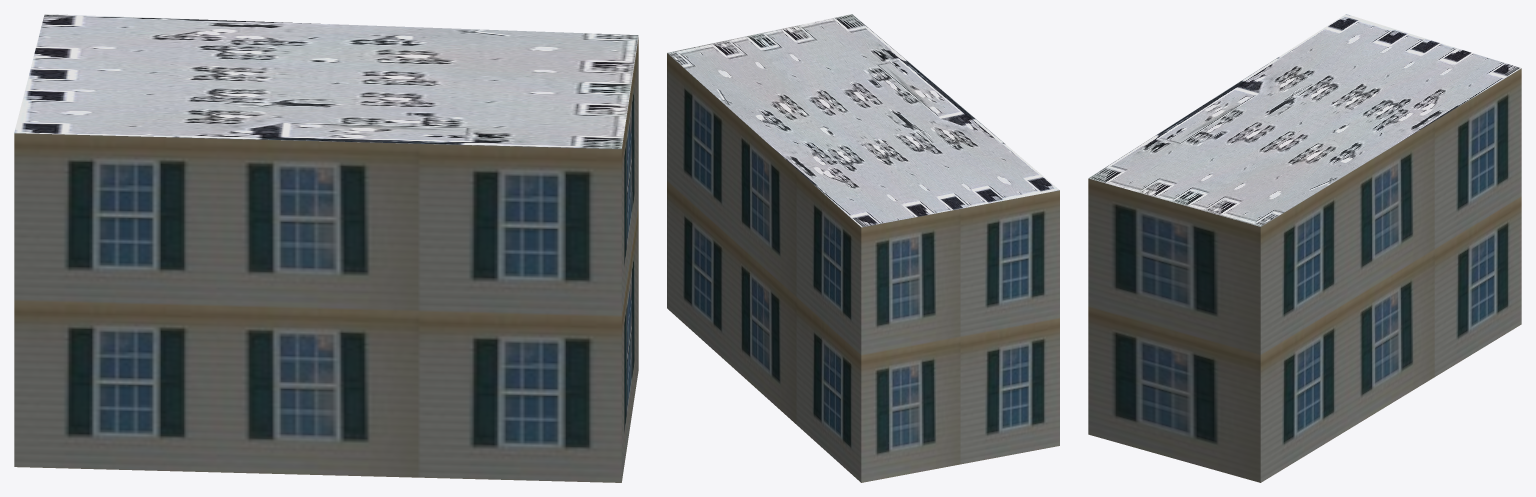
Rendered from ResTex__93.fbx.
The picture shows the model from 3 angles, left to right: view 1: azimuth 30°, elevation 25°; view 2: azimuth 150°, elevation 25°; view 3: azimuth 270°, elevation 25°; orthographic projection. The views are drawn at different scales.
Visible parts, largest first — view 1: CityEngineMaterial_7_m, CityEngineMaterial_2_m; view 2: CityEngineMaterial_7_m, CityEngineMaterial_2_m; view 3: CityEngineMaterial_7_m, CityEngineMaterial_2_m.
Part boxes in pixels (x1,y1,x2,y2): CityEngineMaterial_7_m: (14,37,638,482); CityEngineMaterial_2_m: (14,14,638,148); CityEngineMaterial_7_m: (667,53,1059,482); CityEngineMaterial_2_m: (667,14,1059,227); CityEngineMaterial_7_m: (1088,68,1521,482); CityEngineMaterial_2_m: (1088,14,1521,226).
Size of the model in its own units: 10.7 by 6 by 9.21.
2 materials, 2 textured.
